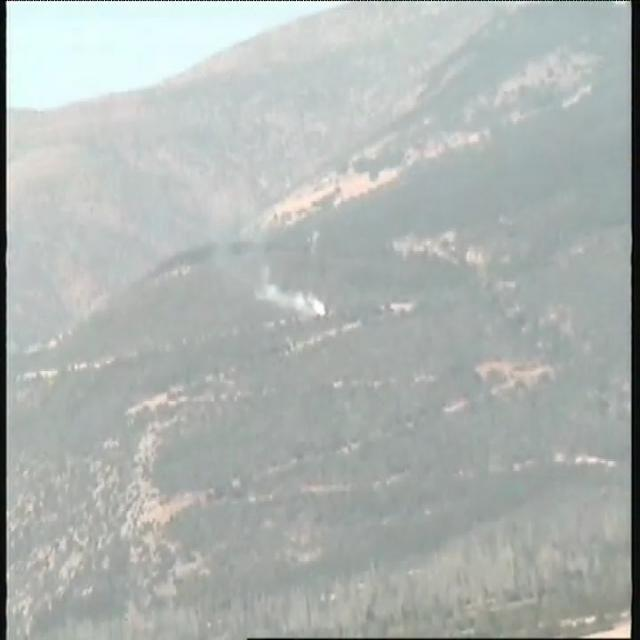smoke: (253, 262, 339, 314)
